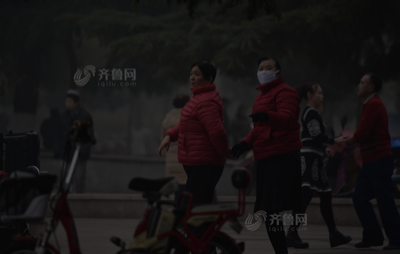with_mask: (256, 63, 277, 85)
without_mask: (188, 67, 207, 89), (356, 77, 369, 96), (312, 89, 325, 105)
